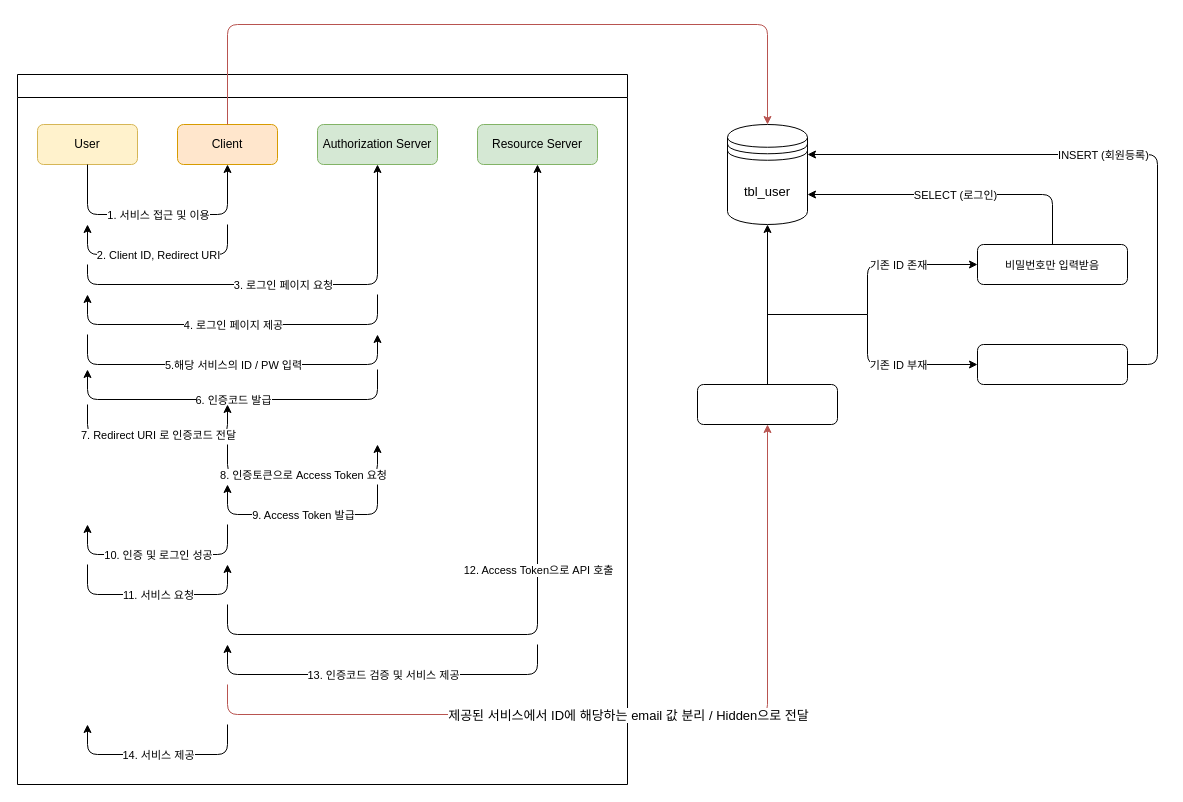
This 1183x802 diagram has some shape labels left out. Each missing label, with the box of its shape:
Oauth 2: (16, 74, 628, 784)
비밀번호, 닉네임 입력받음: (976, 344, 1128, 384)
전달받은 email 조회: (696, 384, 838, 424)
